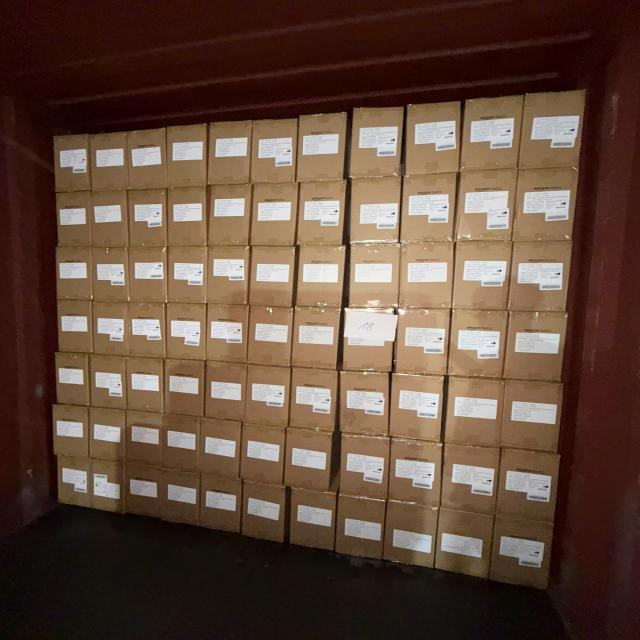Carton: (520, 92, 586, 172), (492, 517, 552, 595), (518, 169, 580, 244), (462, 96, 523, 172), (496, 446, 558, 520), (455, 169, 516, 244), (501, 379, 562, 454), (508, 241, 571, 313), (506, 313, 569, 384), (436, 505, 492, 581), (443, 378, 502, 450), (439, 445, 496, 519), (453, 240, 512, 311), (406, 105, 462, 179), (346, 106, 402, 180), (450, 310, 508, 380), (402, 172, 457, 244), (401, 243, 456, 311), (347, 175, 400, 244), (392, 374, 445, 443), (382, 502, 434, 572), (397, 310, 451, 377), (391, 439, 443, 508), (345, 245, 398, 311), (300, 111, 349, 181), (339, 434, 389, 502), (336, 493, 386, 561), (342, 310, 395, 373), (340, 371, 390, 437), (299, 181, 349, 246), (285, 428, 334, 494), (290, 364, 338, 431), (286, 490, 334, 556), (294, 246, 344, 309), (239, 481, 285, 546), (292, 310, 339, 373), (252, 182, 298, 246), (252, 119, 298, 182), (247, 364, 292, 428), (251, 248, 297, 310), (242, 425, 287, 488), (119, 461, 166, 521), (208, 120, 252, 184), (160, 464, 202, 531), (249, 306, 294, 368), (203, 360, 246, 423), (207, 184, 250, 246), (200, 474, 242, 536), (199, 416, 240, 479), (170, 124, 210, 187), (208, 247, 250, 307), (207, 305, 249, 364), (170, 186, 210, 246), (91, 300, 131, 360), (128, 129, 167, 190), (167, 358, 207, 417), (164, 412, 203, 472), (129, 248, 169, 306), (128, 188, 167, 247), (169, 304, 209, 361), (169, 248, 208, 306), (127, 358, 165, 414), (129, 302, 167, 358), (94, 133, 130, 191), (88, 461, 124, 519), (90, 190, 126, 247), (54, 137, 90, 194), (88, 353, 125, 408), (94, 248, 130, 304), (126, 410, 162, 466), (52, 404, 89, 458), (55, 248, 92, 302), (58, 298, 94, 353), (88, 408, 124, 462), (58, 190, 92, 247), (56, 351, 92, 404), (58, 459, 91, 512)
